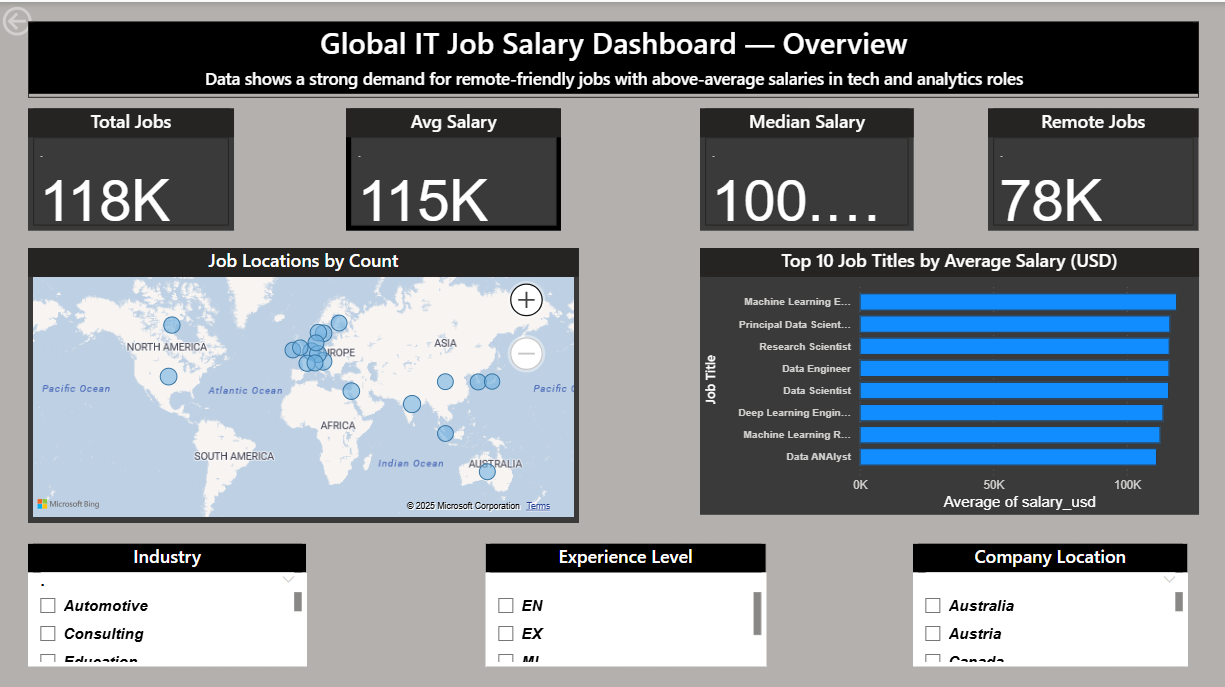

What the dashboard file says about the page in this screenshot:
{"tool":"powerbi","page":{"name":"Overview","canvas":[1280,720],"ordinal":0},"visuals":[{"type":"actionButton","box":[0,0,100,40],"z":0},{"type":"map","title":"Job Locations by Count","fields":{"Size":["CountNonNull(job_analysis.id)"],"Category":["job_analysis.company_location"]},"box":[32,256,574,286],"z":1000},{"type":"clusteredBarChart","title":"Top 10 Job Titles by Average Salary (USD)","fields":{"Category":["job_analysis.job_title"],"Y":["Avg(job_analysis.salary_usd)"]},"box":[732,256,520,278],"z":2000},{"type":"slicer","title":"Experience Level","fields":{"Values":["job_analysis.experience_level"]},"box":[508,564,292,128],"z":3000},{"type":"slicer","title":"Industry","fields":{"Values":["job_analysis.industry"]},"box":[32,564,290,128],"z":4000},{"type":"slicer","title":"Company Location","fields":{"Values":["job_analysis.company_location"]},"box":[954,564,286,128],"z":5000},{"type":"textbox","title":"Global IT Job Salary Dashboard — Overview","box":[31.8,20.7,1220,79.5],"z":6000},{"type":"cardVisual","title":"Total Jobs","fields":{"Data":["job_analysis.Total Jobs"]},"box":[31.8,111.3,214.7,127.2],"z":7000},{"type":"cardVisual","title":"Avg Salary","fields":{"Data":["job_analysis.Avg Salary"]},"box":[362.7,111.3,224.3,127.2],"z":8000},{"type":"cardVisual","title":"Median Salary","fields":{"Data":["job_analysis.Median Salary"]},"box":[731.7,111.3,222.7,127.2],"z":9000},{"type":"cardVisual","title":"Remote Jobs","fields":{"Data":["job_analysis.Jobs With Remote"]},"box":[1032.3,111.3,219.5,127.2],"z":10000}]}

Visuals, with their boxes on the page's 1280x720 design canvas (x1, y1, x2, y2). These are canvas units, not pixel positions in the 1225x687 screenshot, which may show the page scaled, cropped or inside an application window:
actionButton: box(0, 0, 100, 40)
"Job Locations by Count" map: box(32, 256, 606, 542)
"Top 10 Job Titles by Average Salary (USD)" clusteredBarChart: box(732, 256, 1252, 534)
"Experience Level" slicer: box(508, 564, 800, 692)
"Industry" slicer: box(32, 564, 322, 692)
"Company Location" slicer: box(954, 564, 1240, 692)
"Global IT Job Salary Dashboard — Overview" textbox: box(32, 21, 1252, 100)
"Total Jobs" cardVisual: box(32, 111, 246, 238)
"Avg Salary" cardVisual: box(363, 111, 587, 238)
"Median Salary" cardVisual: box(732, 111, 954, 238)
"Remote Jobs" cardVisual: box(1032, 111, 1252, 238)
